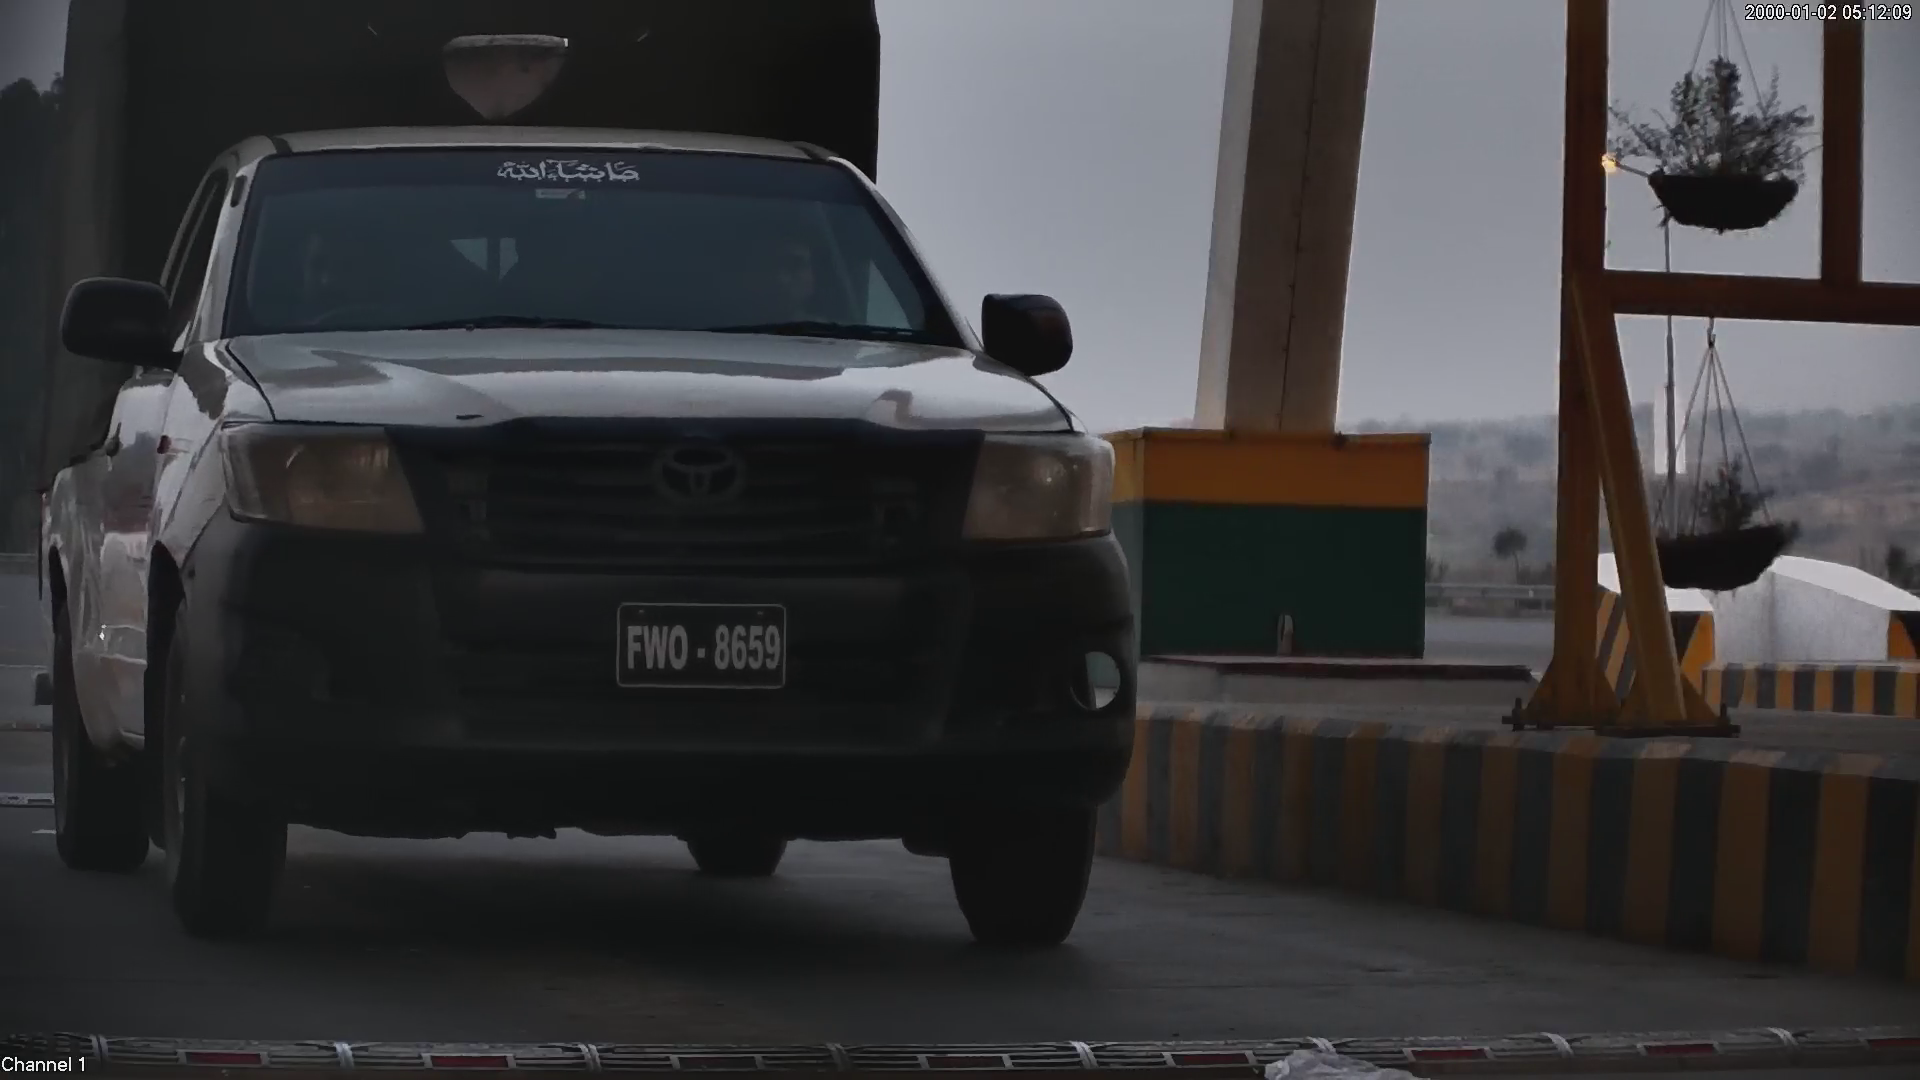Number_Plate: (610, 590, 796, 700)
